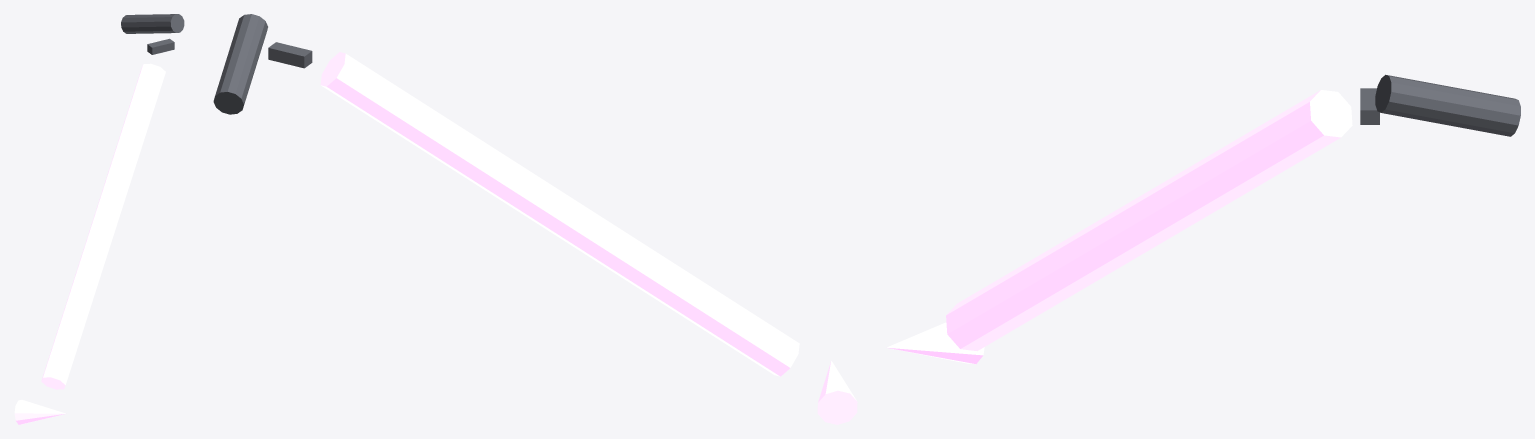
File: Weapon_Katana.glb
3 views of the same model, side by side, from view 1: azimuth 30°, elevation 25°; view 2: azimuth 150°, elevation 25°; view 3: azimuth 270°, elevation 25° (orthographic). The views are drawn at different scales.
Parts seen in each view (by area): view 1: Weapon_Katana; view 2: Weapon_Katana; view 3: Weapon_Katana.
Boxes of the visible parts, left/top/right/bottom form: Weapon_Katana: left=14, top=14, right=184, bottom=424; Weapon_Katana: left=213, top=14, right=857, bottom=424; Weapon_Katana: left=886, top=74, right=1520, bottom=364.
Size of the model in its own units: 0.9866 by 0.9162 by 0.9771.
